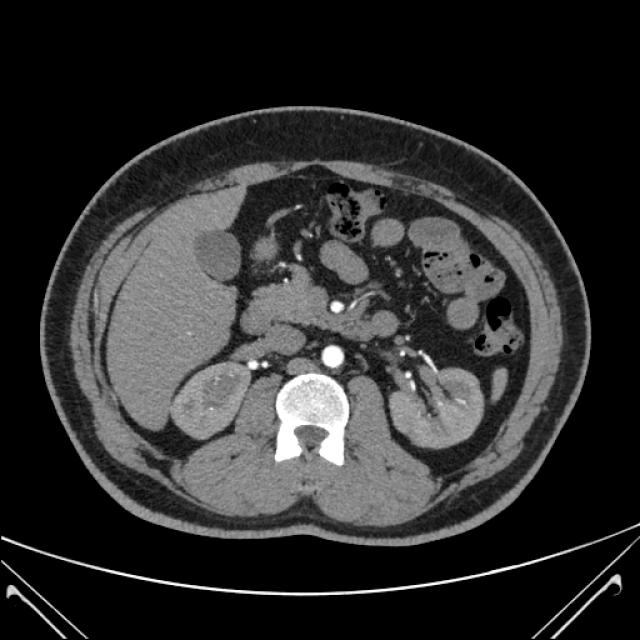Kidney: (31, 103, 581, 566)
